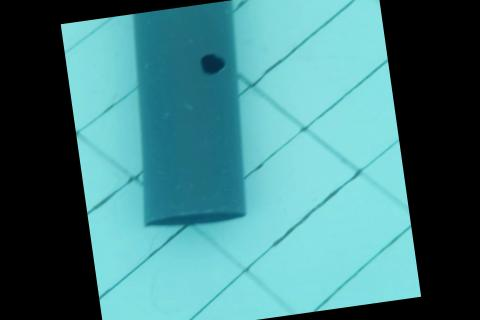kebocoran: (197, 50, 228, 76)
